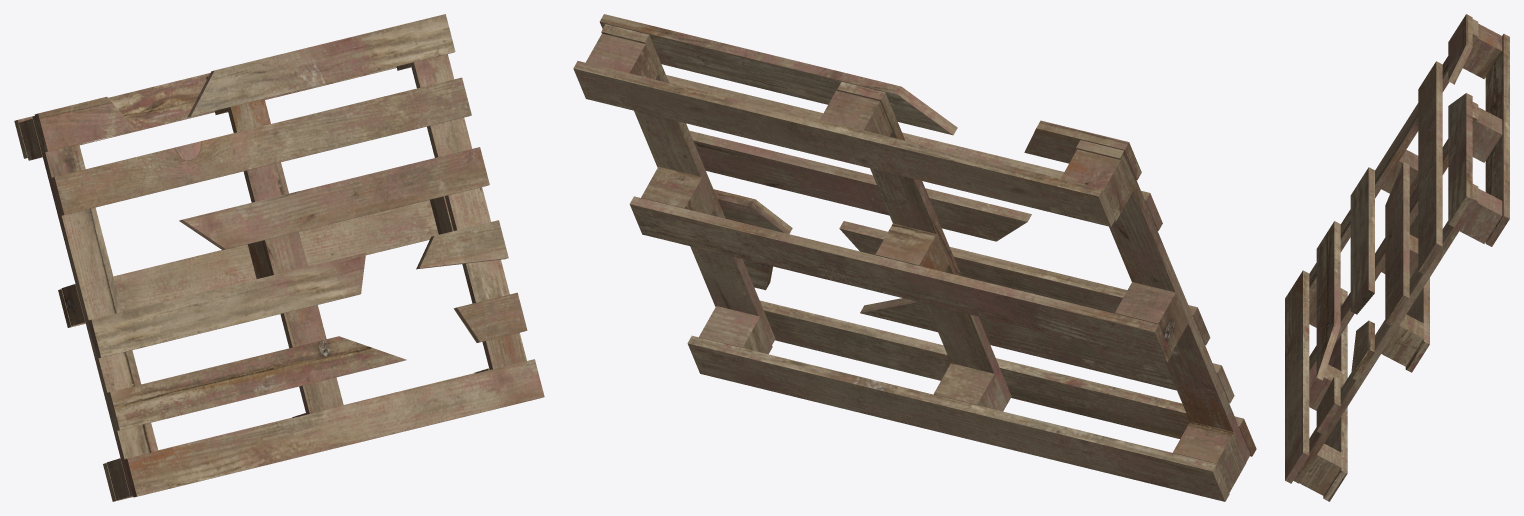
The model's file is BancaleRotto.fbx.
3 renders of one model, left to right at view 1: azimuth 30°, elevation 25°; view 2: azimuth 150°, elevation 25°; view 3: azimuth 270°, elevation 25°, orthographic. The views are drawn at different scales.
Parts seen in each view (by area): view 1: Pallet Rotto; view 2: Pallet Rotto; view 3: Pallet Rotto.
Part boxes in pixels (<box>): Pallet Rotto: <box>14,14,544,501</box>; Pallet Rotto: <box>573,14,1256,501</box>; Pallet Rotto: <box>1285,14,1509,501</box>.
Bounding box in the file's own units: 1.2 × 0.9393 × 0.6258.
1 material, 1 textured.
